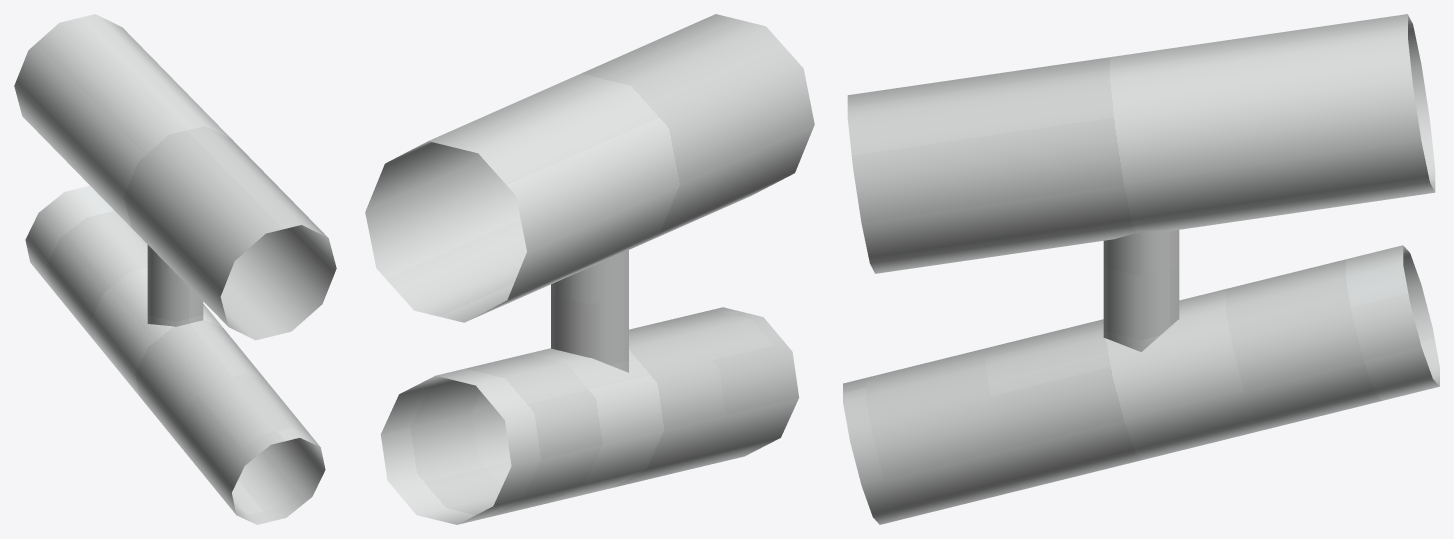
File: trusssignalarm_sloped12_c14.obj
The picture shows the model from 3 angles, left to right: view 1: azimuth 30°, elevation 25°; view 2: azimuth 150°, elevation 25°; view 3: azimuth 270°, elevation 25°; orthographic projection. The views are drawn at different scales.
Visible parts, largest first — view 1: trusssignalarm_sloped12_c14; view 2: trusssignalarm_sloped12_c14; view 3: trusssignalarm_sloped12_c14.
Boxes of the visible parts, left/top/right/bottom form: trusssignalarm_sloped12_c14: left=14, top=14, right=336, bottom=524; trusssignalarm_sloped12_c14: left=365, top=14, right=814, bottom=524; trusssignalarm_sloped12_c14: left=843, top=14, right=1439, bottom=524.
Bounding box in the file's own units: 0.325 × 0.9643 × 1.07.
